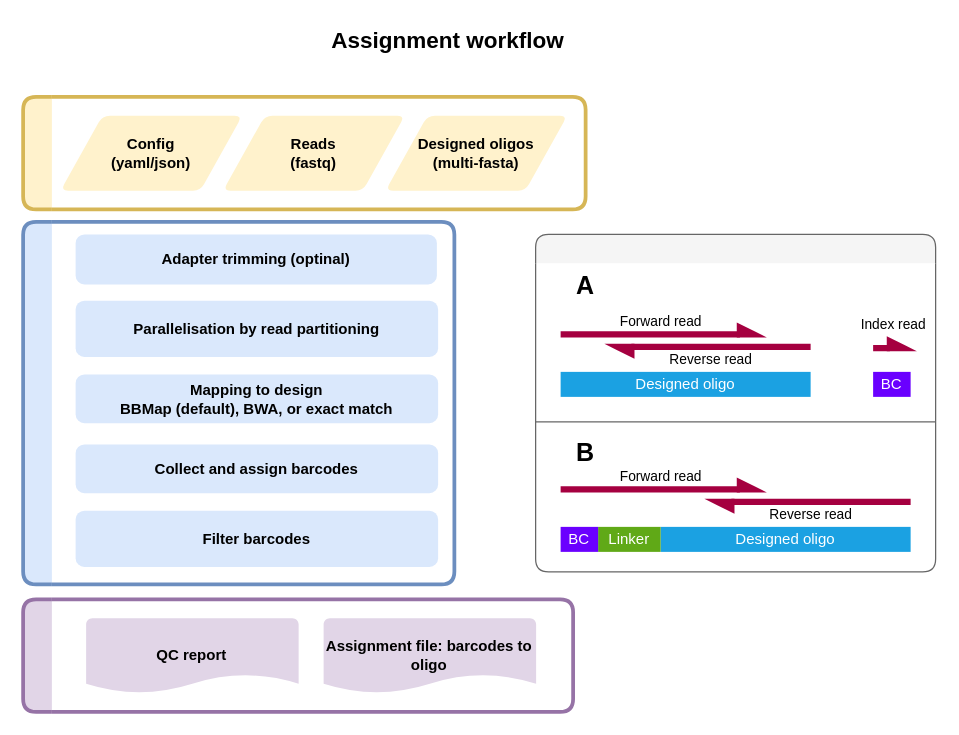
The diagram is 959 pixels wide and 735 high, and some of its shapes have lost their labels. The shapes that lost their labels are listed below. From the top down, each one's box as (x1, y1, x2, y2) in pixels, then its label:
(21, 94, 587, 211): Input
(21, 219, 456, 586): Processing
(534, 233, 936, 572): Supported read structure
(21, 597, 574, 713): Output
